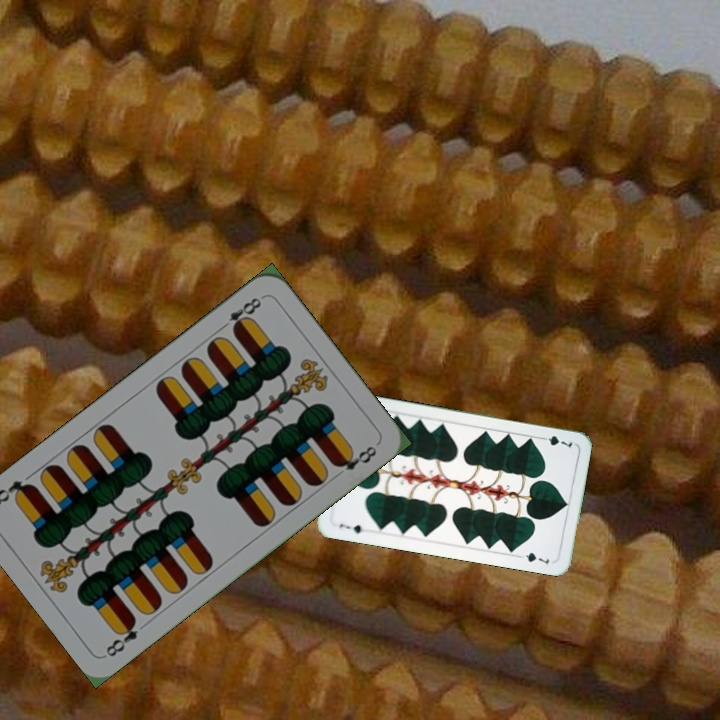E8: (215, 292, 266, 335), (101, 614, 141, 660)
G7: (536, 432, 575, 450), (336, 520, 365, 536)
